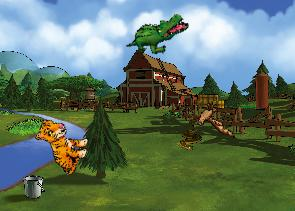crocodile: (124, 0, 191, 68)
eagle: (188, 102, 235, 138)
tiger: (27, 115, 94, 177)
